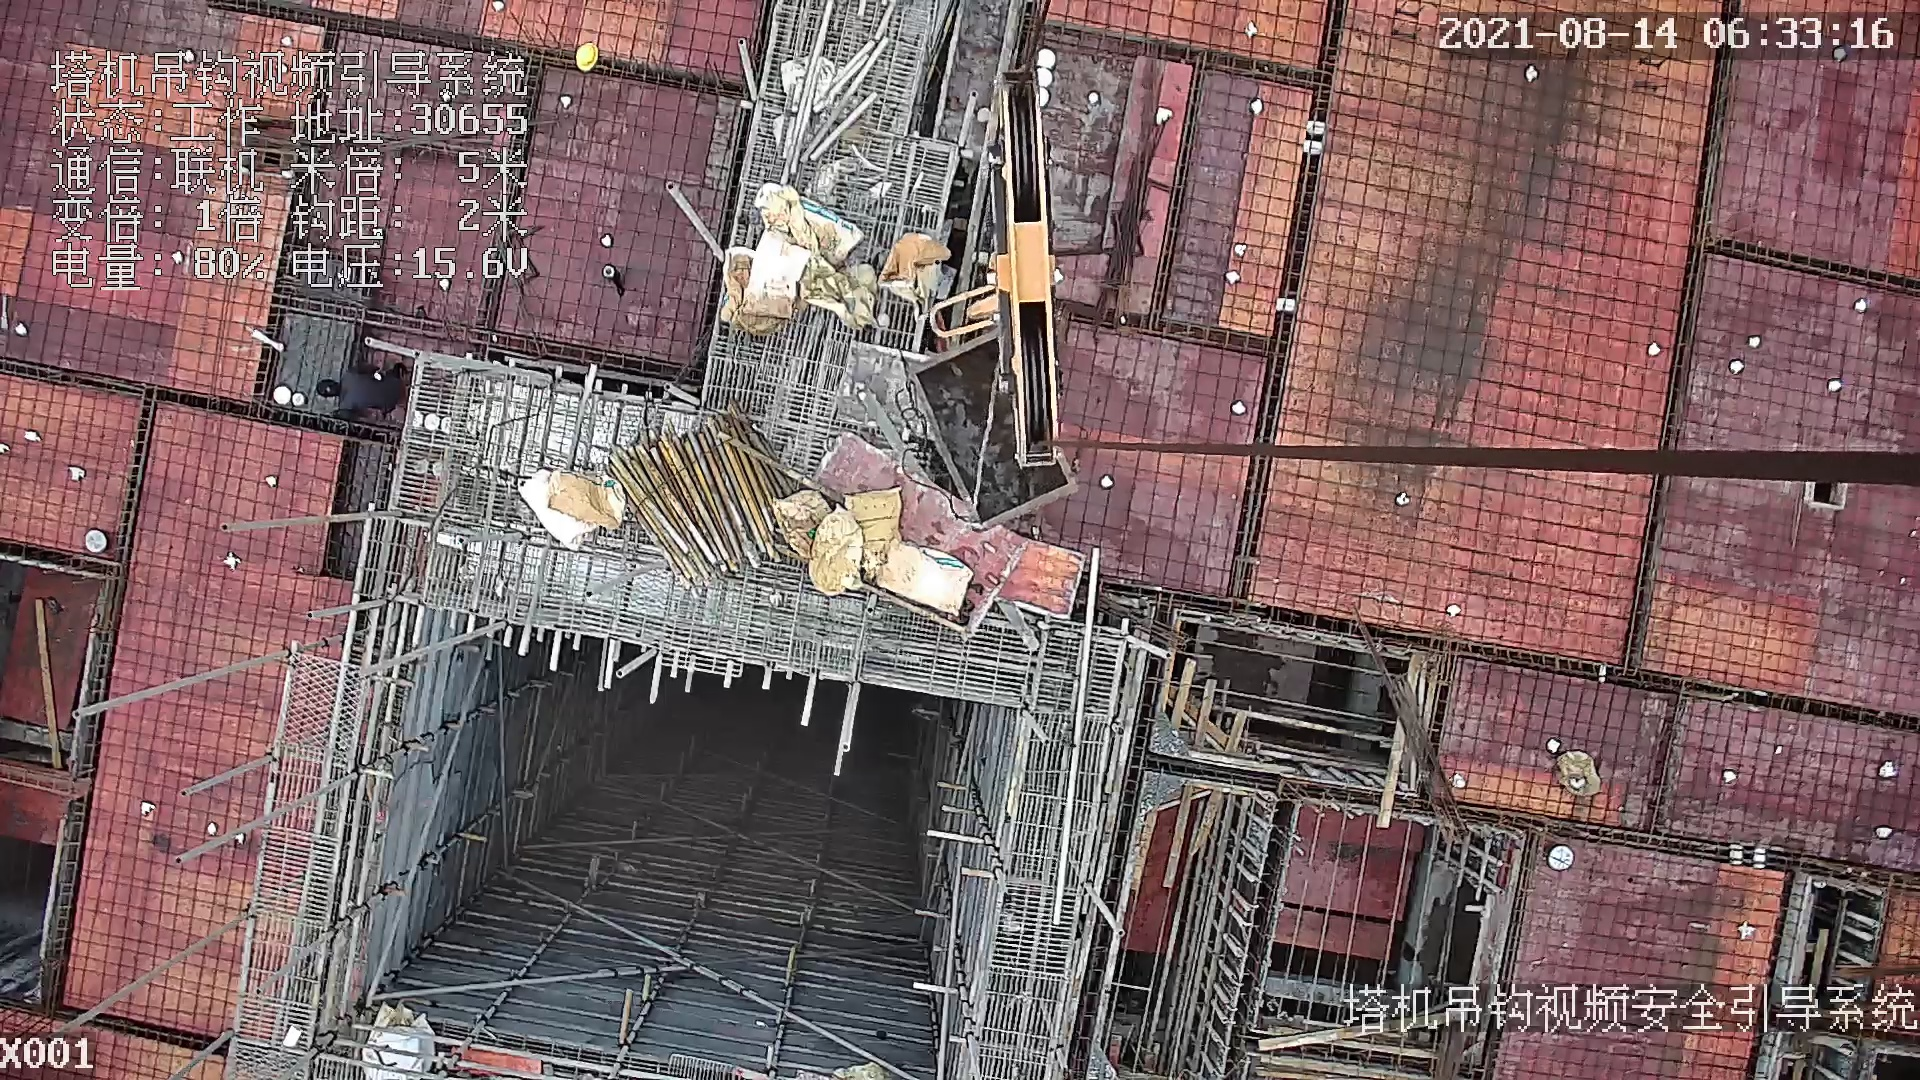helmet: (571, 43, 600, 75)
hook: (922, 72, 1068, 471)
hopper: (906, 341, 1079, 522)
person: (314, 362, 405, 417)
scaffold: (609, 412, 792, 606)
